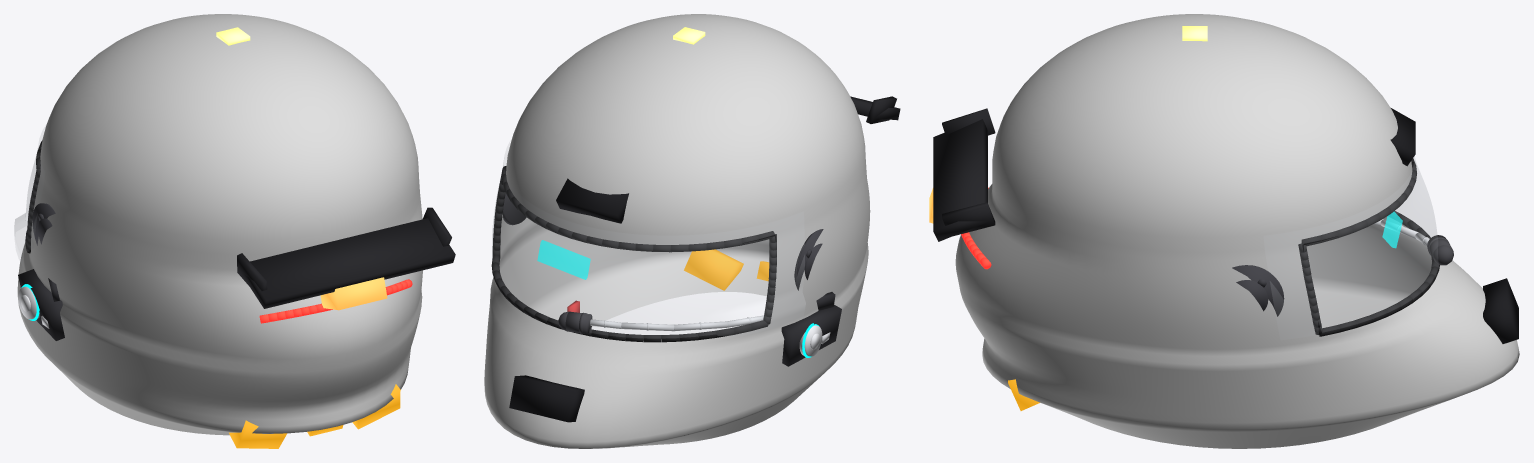
File: digital_helmet.glb
The picture shows the model from 3 angles, left to right: view 1: azimuth 30°, elevation 25°; view 2: azimuth 150°, elevation 25°; view 3: azimuth 270°, elevation 25°; orthographic projection. The views are drawn at different scales.
Parts seen in each view (by area): view 1: Digital_Helmet_Shell, Aero_Ducktail_Spoiler, Battery_Pack_System, Intercom_Pod_Body, Digital_Helmet_Visor, Rear_Radar_Sensor, Rear_Decel_LED_Strip, Pivot_Mechanism_Left, EyePort_Gasket, Intercom_Jog_Dial; view 2: Digital_Helmet_Shell, Digital_Helmet_Visor, EyePort_Gasket, Chin_Bar_Vent, Intercom_Pod_Body, Forehead_Vent_Scoop, Battery_Pack_System, Speech_Boom_Arm, HUD_Waveguide_Module, Aero_Ducktail_Spoiler, Pivot_Mechanism_Left, Speech_Boom_Microphone (+1 smaller); view 3: Digital_Helmet_Shell, Digital_Helmet_Visor, Aero_Ducktail_Spoiler, EyePort_Gasket, Chin_Bar_Vent, Pivot_Mechanism_Right, Forehead_Vent_Scoop, Speech_Boom_Microphone.
Boxes of the visible parts, bbox=[...] form: Digital_Helmet_Shell: bbox=[17, 14, 422, 435]; Aero_Ducktail_Spoiler: bbox=[237, 207, 455, 308]; Battery_Pack_System: bbox=[229, 384, 400, 448]; Intercom_Pod_Body: bbox=[18, 269, 64, 340]; Digital_Helmet_Visor: bbox=[14, 126, 45, 264]; Rear_Radar_Sensor: bbox=[320, 277, 387, 310]; Rear_Decel_LED_Strip: bbox=[259, 279, 412, 323]; Pivot_Mechanism_Left: bbox=[32, 203, 55, 245]; EyePort_Gasket: bbox=[25, 140, 42, 253]; Intercom_Jog_Dial: bbox=[18, 286, 39, 319]; Digital_Helmet_Shell: bbox=[484, 14, 870, 448]; Digital_Helmet_Visor: bbox=[492, 143, 805, 337]; EyePort_Gasket: bbox=[491, 166, 776, 342]; Chin_Bar_Vent: bbox=[509, 375, 584, 422]; Intercom_Pod_Body: bbox=[781, 292, 841, 366]; Forehead_Vent_Scoop: bbox=[556, 178, 628, 223]; Battery_Pack_System: bbox=[684, 249, 769, 290]; Speech_Boom_Arm: bbox=[590, 315, 763, 331]; HUD_Waveguide_Module: bbox=[537, 240, 590, 279]; Aero_Ducktail_Spoiler: bbox=[850, 96, 900, 123]; Pivot_Mechanism_Left: bbox=[794, 229, 823, 290]; Speech_Boom_Microphone: bbox=[558, 311, 592, 333]; Digital_Helmet_Shell: bbox=[955, 14, 1519, 448]; Digital_Helmet_Visor: bbox=[1264, 156, 1438, 339]; Aero_Ducktail_Spoiler: bbox=[933, 108, 995, 241]; EyePort_Gasket: bbox=[1298, 158, 1439, 336]; Chin_Bar_Vent: bbox=[1483, 278, 1518, 343]; Pivot_Mechanism_Right: bbox=[1232, 265, 1284, 316]; Forehead_Vent_Scoop: bbox=[1390, 108, 1415, 166]; Speech_Boom_Microphone: bbox=[1427, 235, 1453, 265].
Bounding box in the file's own units: 249 × 246 × 370.
